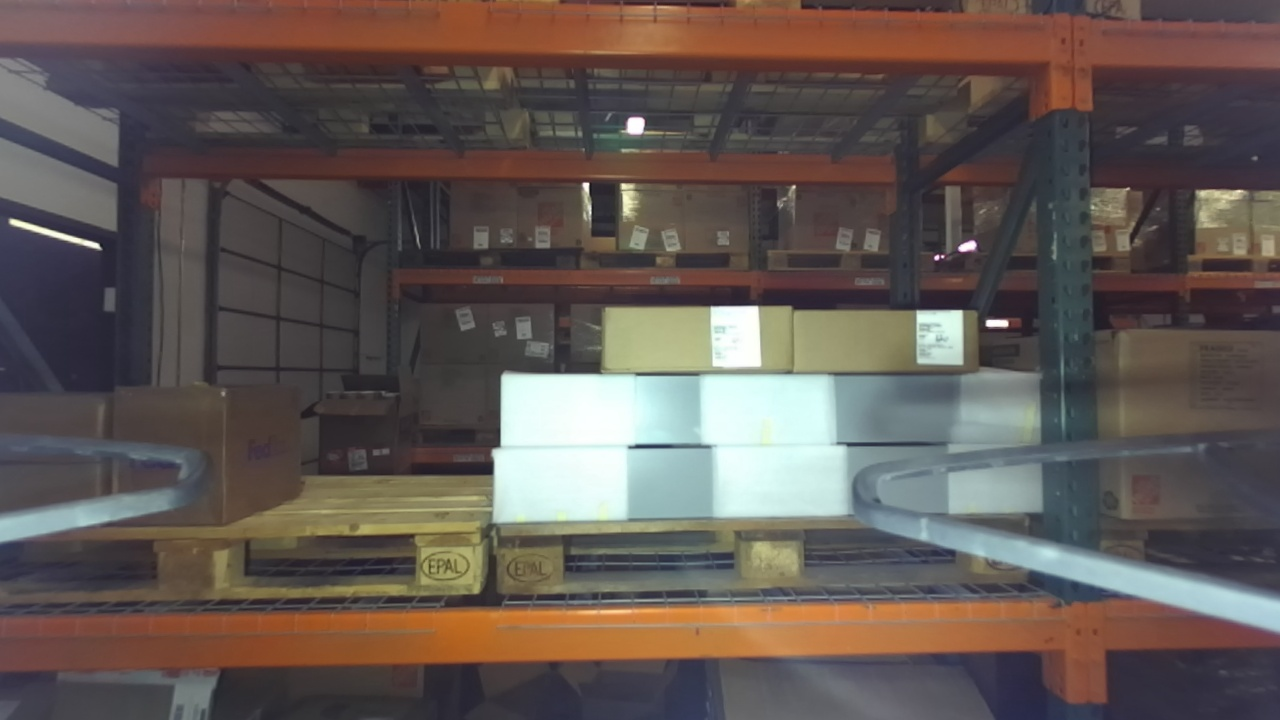box: (1091, 313, 1280, 541), (90, 369, 322, 543), (586, 296, 794, 392), (786, 296, 993, 386)
